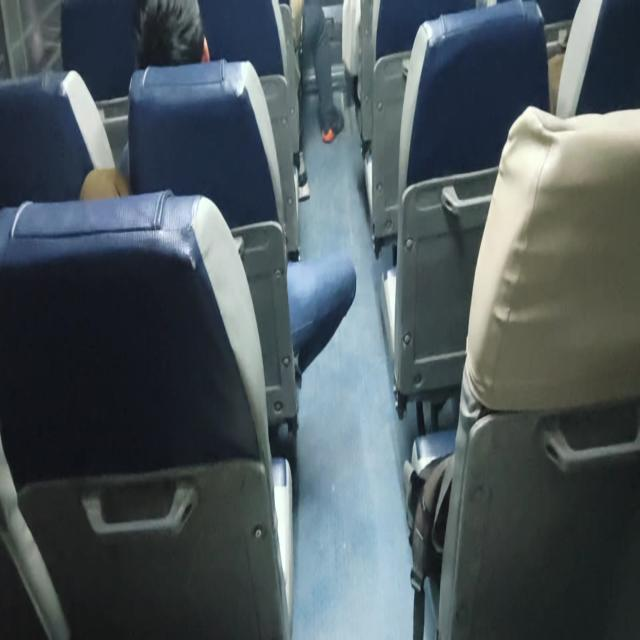person: (138, 0, 216, 58)
